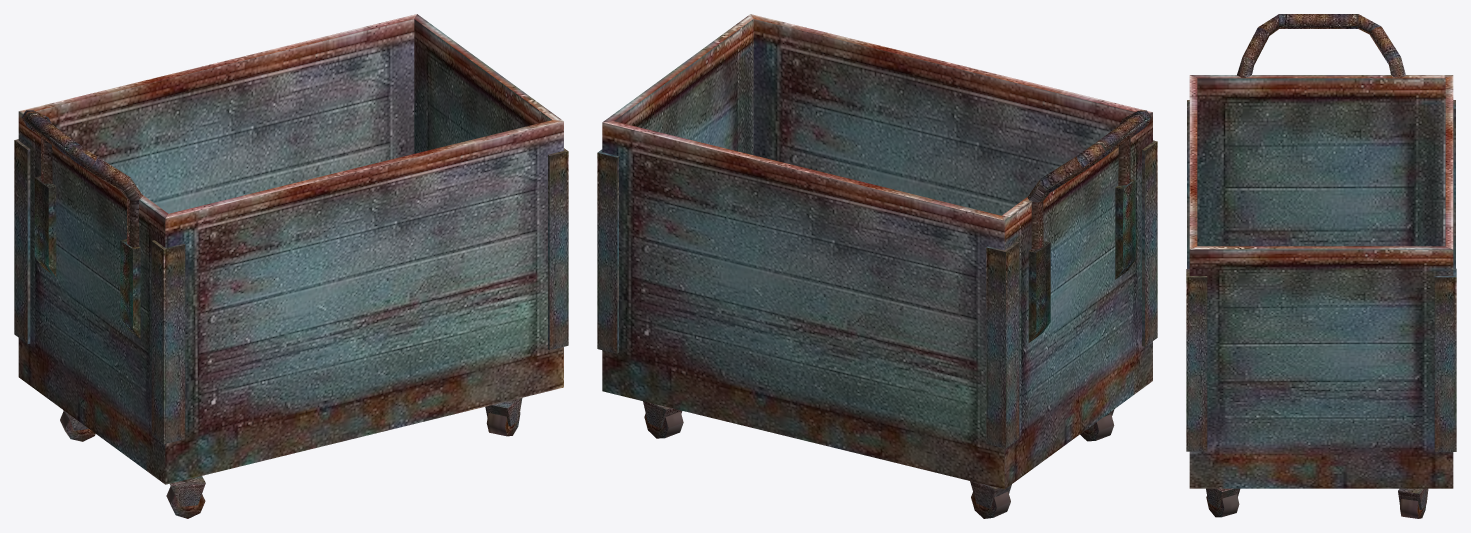
File: laundry_cart002.glb
The picture shows the model from 3 angles, left to right: view 1: azimuth 30°, elevation 25°; view 2: azimuth 150°, elevation 25°; view 3: azimuth 270°, elevation 25°; orthographic projection. The views are drawn at different scales.
Visible parts, largest first — view 1: 0_laundry_carts001; view 2: 0_laundry_carts001; view 3: 0_laundry_carts001.
Boxes of the visible parts, left/top/right/bottom form: 0_laundry_carts001: left=14, top=14, right=568, bottom=518; 0_laundry_carts001: left=597, top=14, right=1157, bottom=518; 0_laundry_carts001: left=1186, top=14, right=1456, bottom=518.
Bounding box in the file's own units: 1.4 × 1.09 × 0.8109.
1 material, 1 textured.
